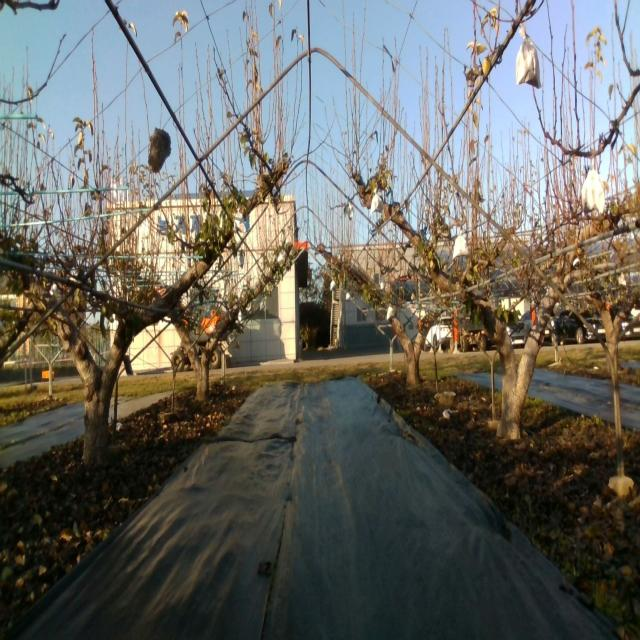pearbags: (516, 28, 540, 88), (582, 168, 606, 216), (453, 230, 470, 260), (234, 209, 246, 233), (371, 188, 382, 214)
